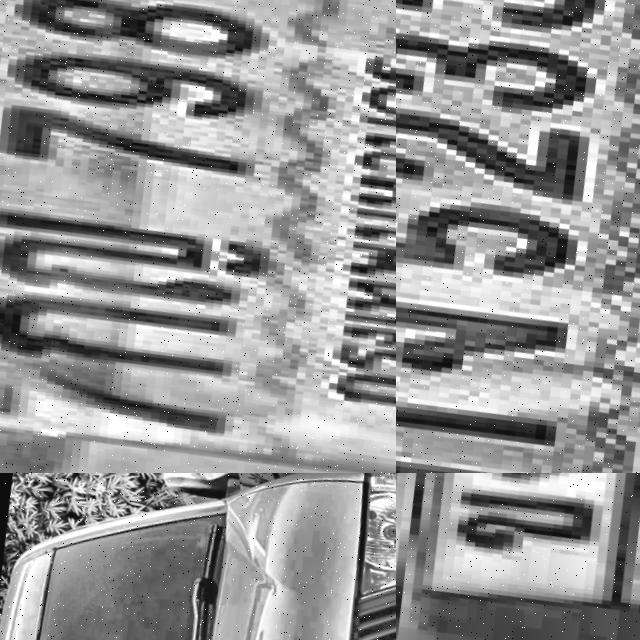license-plate: (0, 0, 396, 473), (396, 0, 640, 473), (396, 473, 640, 640)
